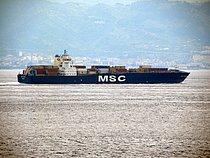Ship: (16, 47, 194, 88)
